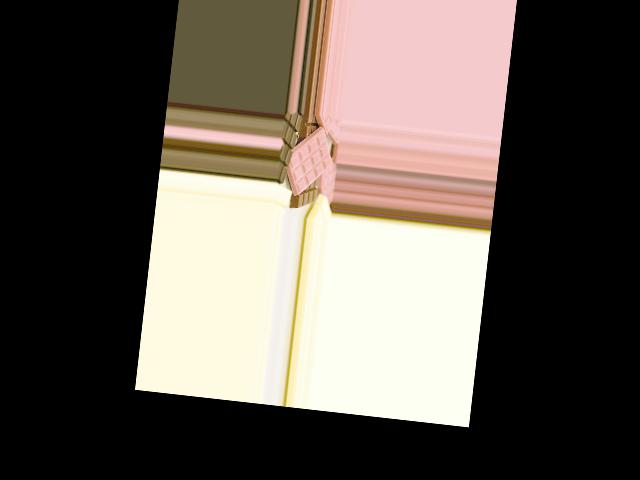chocolate: (275, 122, 338, 198)
